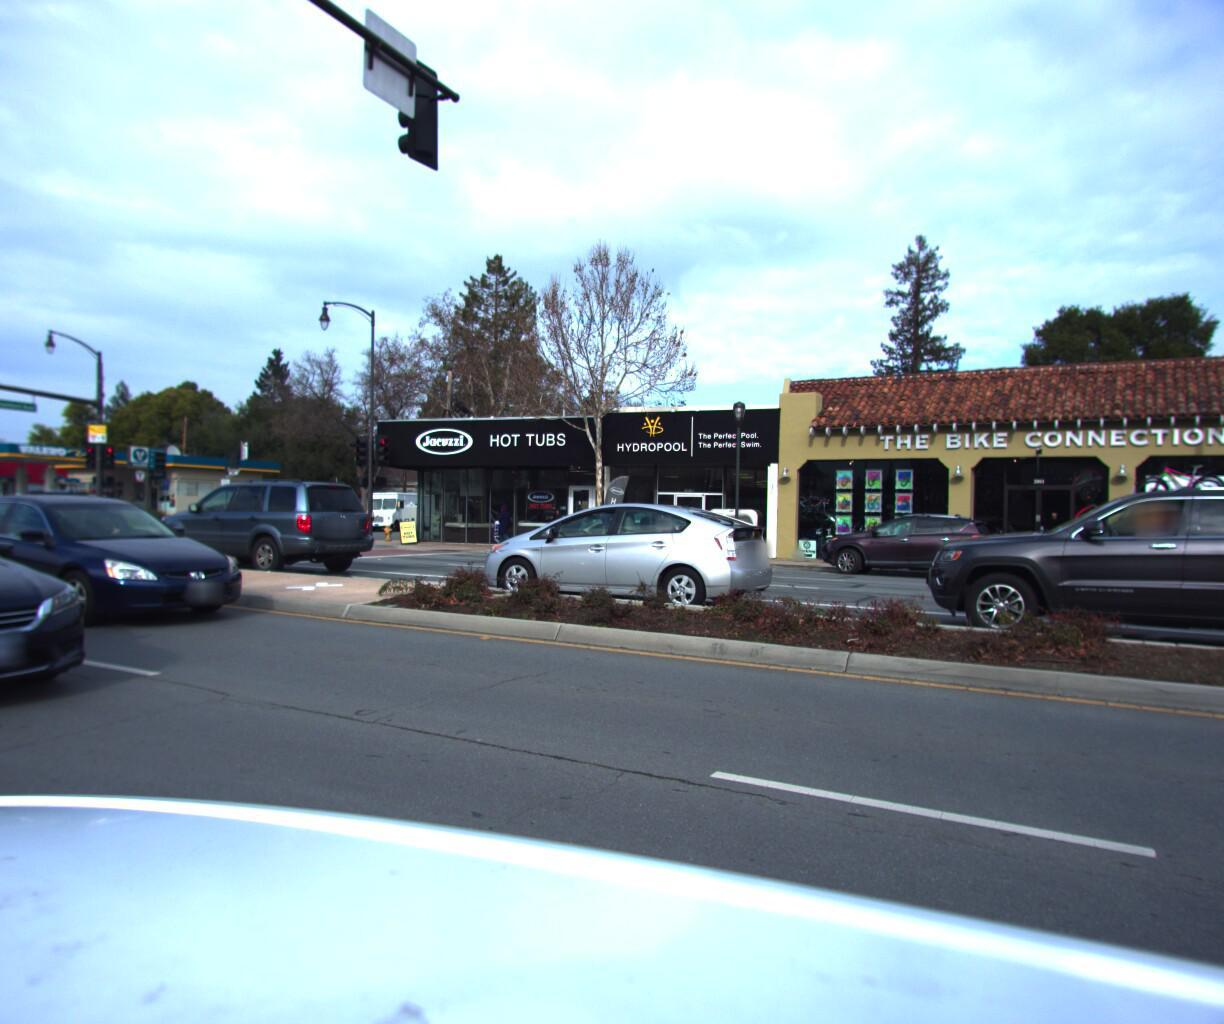car: (903, 483, 1224, 673), (453, 495, 785, 612), (0, 491, 257, 633), (1025, 447, 1224, 598), (0, 487, 113, 751), (131, 470, 384, 576), (801, 506, 1002, 577), (546, 500, 718, 561), (10, 484, 120, 520)
truck: (354, 485, 436, 528)
